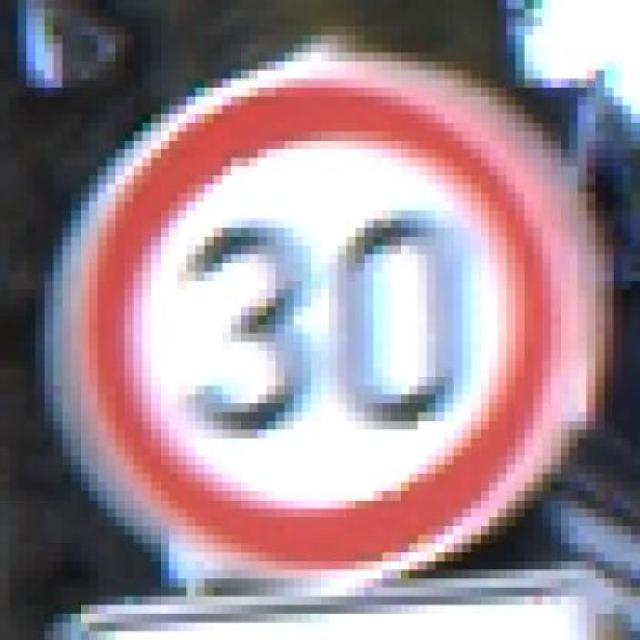Speed Limit 30 KMPh: (44, 62, 631, 588)
